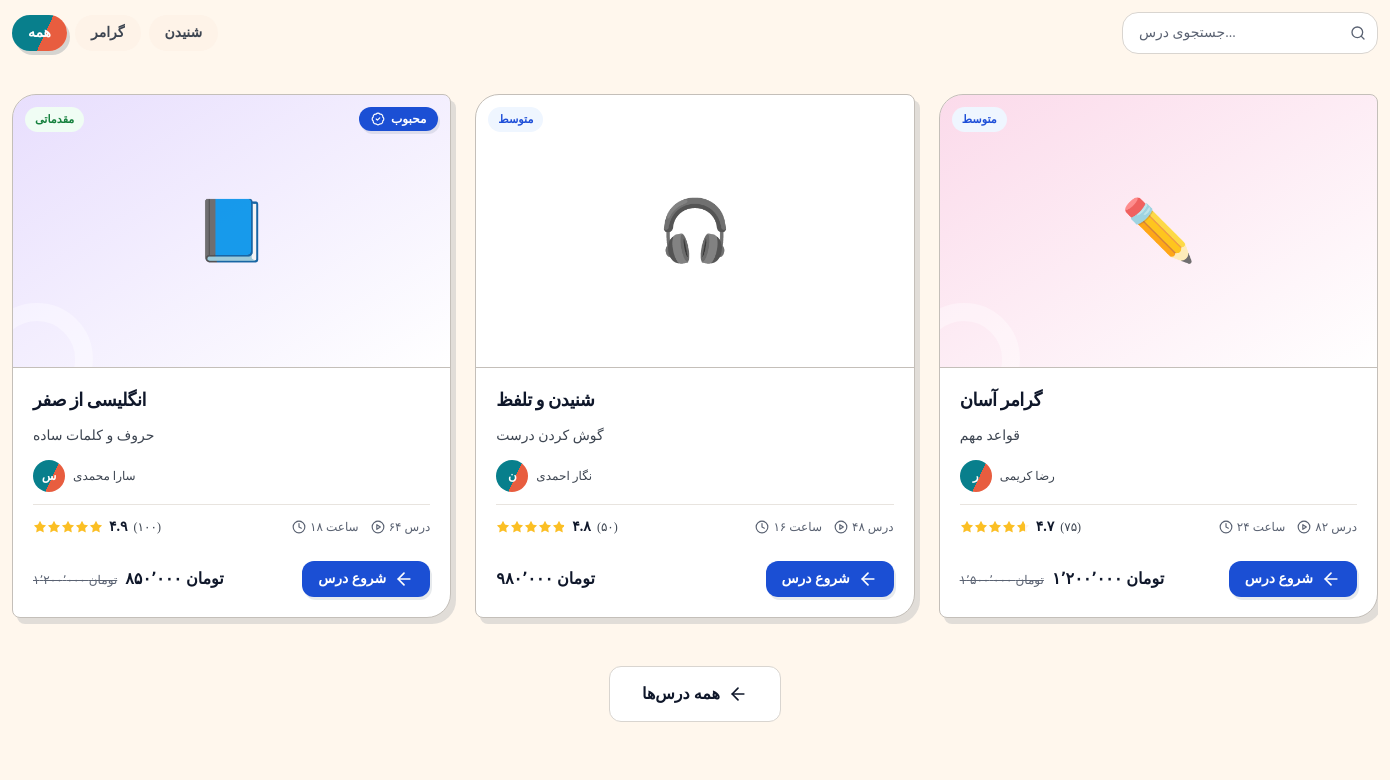
Scenario: PopularCoursesClient › searches courses by title
The image size is (1390, 780).
Type "گرامر" into the field with placeholder "جستجوی درس...".
click(1250, 33); type("گرامر")  # box [1122,12,1378,54]
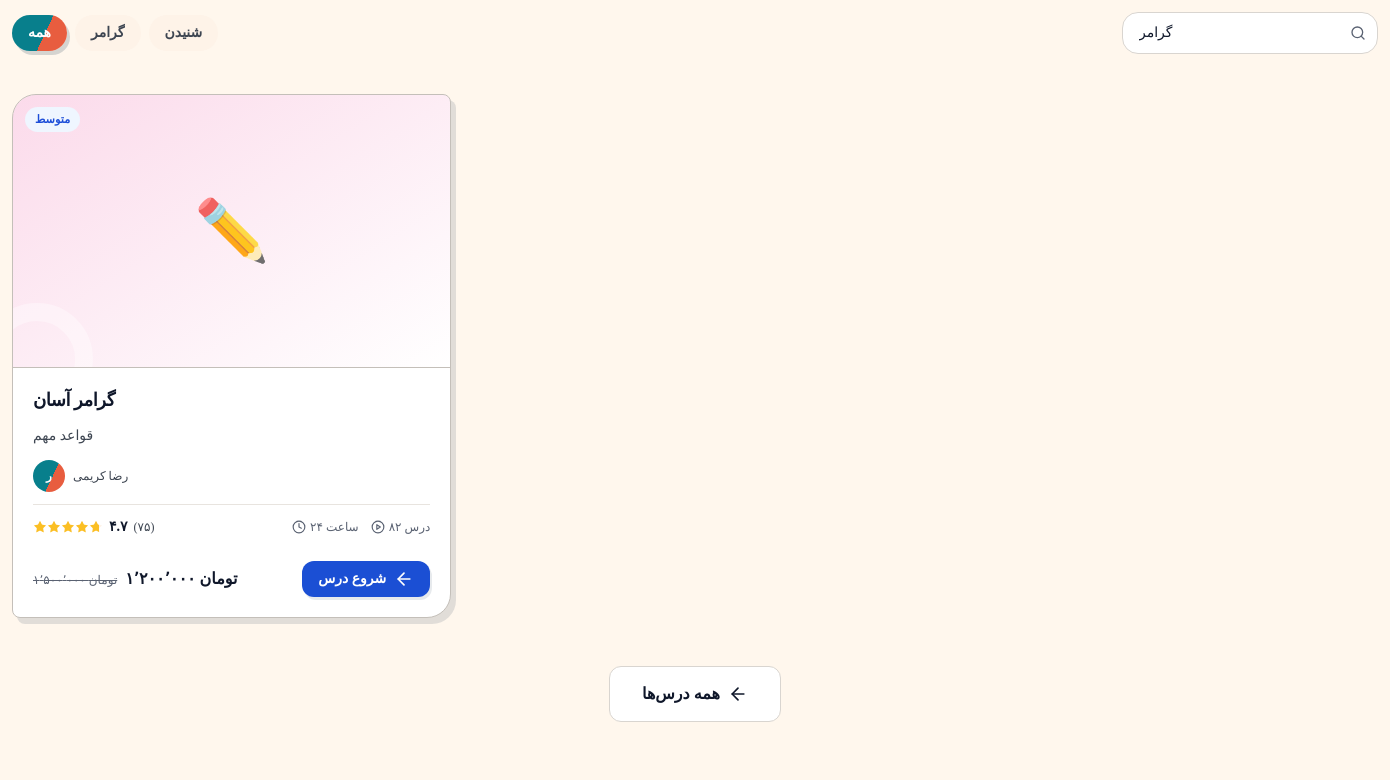
Expected: the heading "گرامر آسان" is shown, [33,390,115,410]
Result: the heading "انگلیسی از صفر" is gone
Result: the heading "شنیدن و تلفظ" is gone
